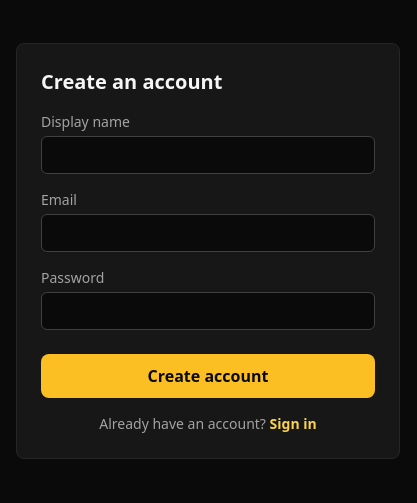
Test: Register › surfaces EMAIL_TAKEN as a friendly inline error
In the field labelled "Display name": (208, 155) top-left (41, 136), bottom-right (375, 174), type "Someone New"
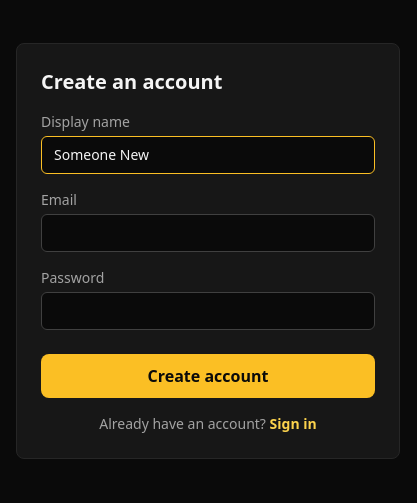
In the field labelled "Email": (208, 233) top-left (41, 214), bottom-right (375, 252), type "player@example.com"
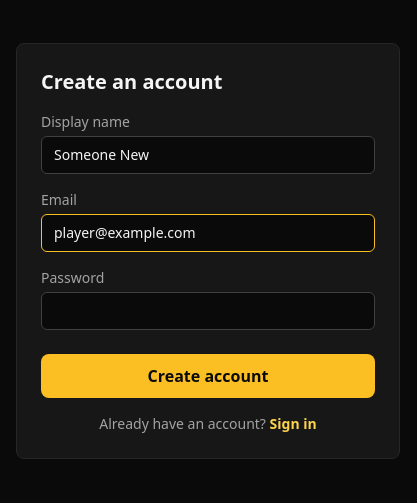
In the password field labelled "Password": (208, 311) top-left (41, 292), bottom-right (375, 330), type "brand-new-password"
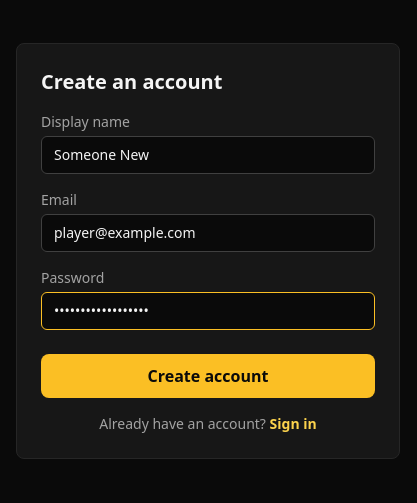
Click the button "Create account": (208, 376) top-left (41, 354), bottom-right (375, 398)
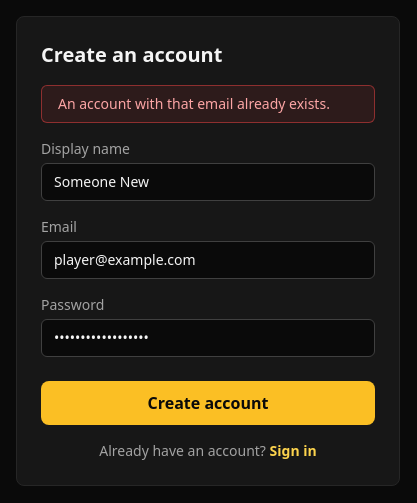
Expected: the message reads "An account with that email already exists.", top-left (58, 94), bottom-right (330, 113)
